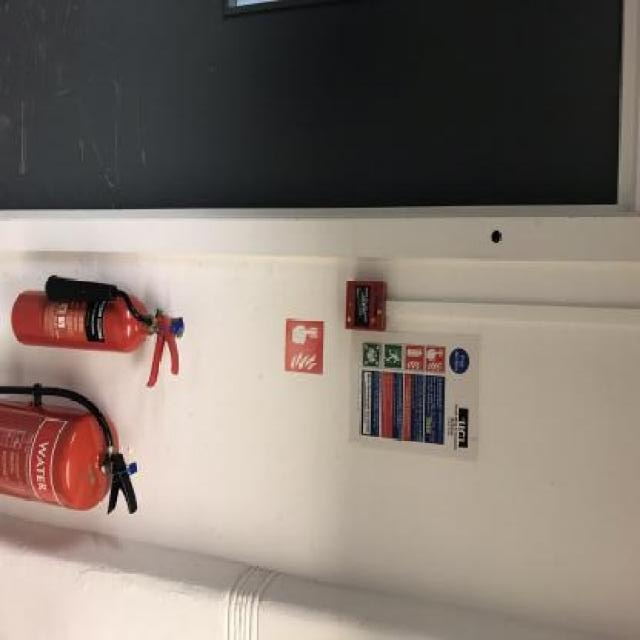fire extinguisher: (11, 276, 183, 389), (0, 388, 140, 514)
